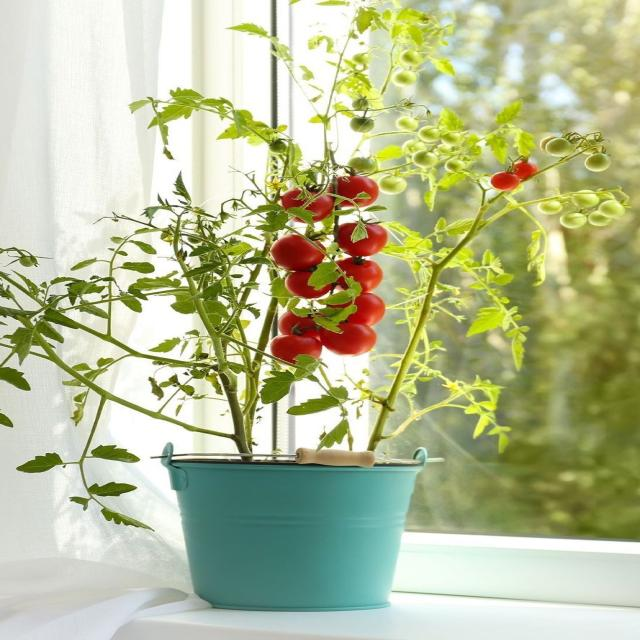level 2: (377, 175, 407, 195), (547, 138, 575, 158), (348, 158, 378, 176), (572, 190, 600, 208), (599, 200, 626, 218), (402, 138, 429, 156), (585, 154, 613, 171), (540, 135, 566, 153), (412, 151, 439, 167), (560, 212, 586, 228), (351, 116, 376, 132), (588, 211, 612, 227), (394, 114, 417, 130), (420, 126, 442, 142), (540, 199, 563, 214), (267, 140, 288, 155), (446, 158, 466, 172), (442, 132, 461, 143)
level 6: (325, 292, 385, 327), (270, 234, 327, 269), (328, 258, 384, 292), (321, 323, 377, 357), (282, 187, 331, 223), (335, 223, 387, 256), (277, 308, 334, 338), (271, 334, 324, 364), (330, 175, 378, 208), (286, 267, 333, 299), (490, 170, 520, 190), (510, 162, 537, 180)
